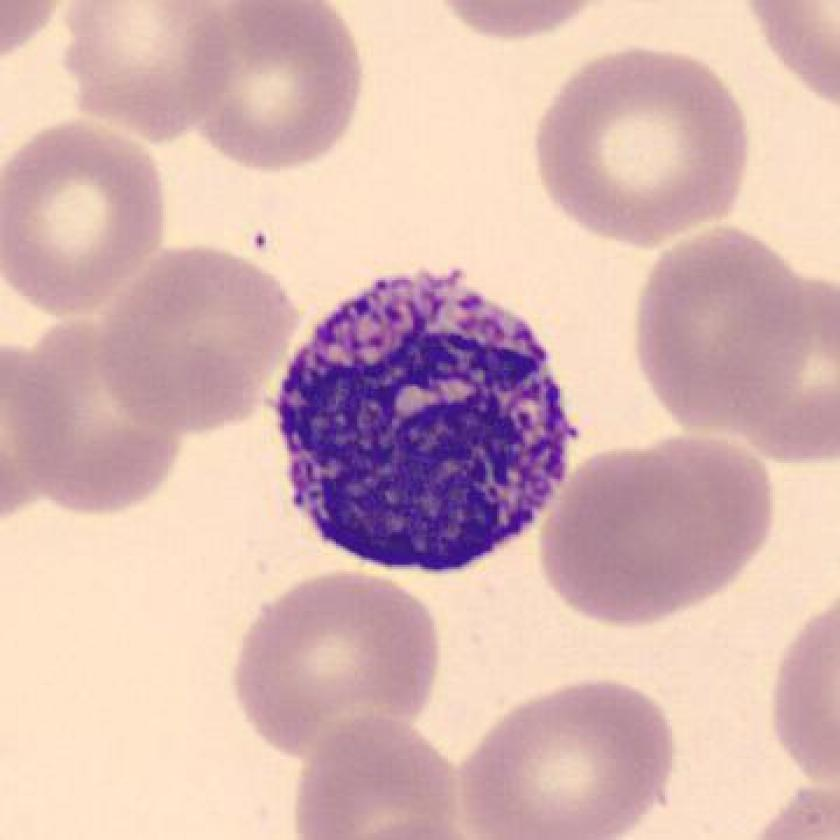basophil: (269, 258, 587, 577)
